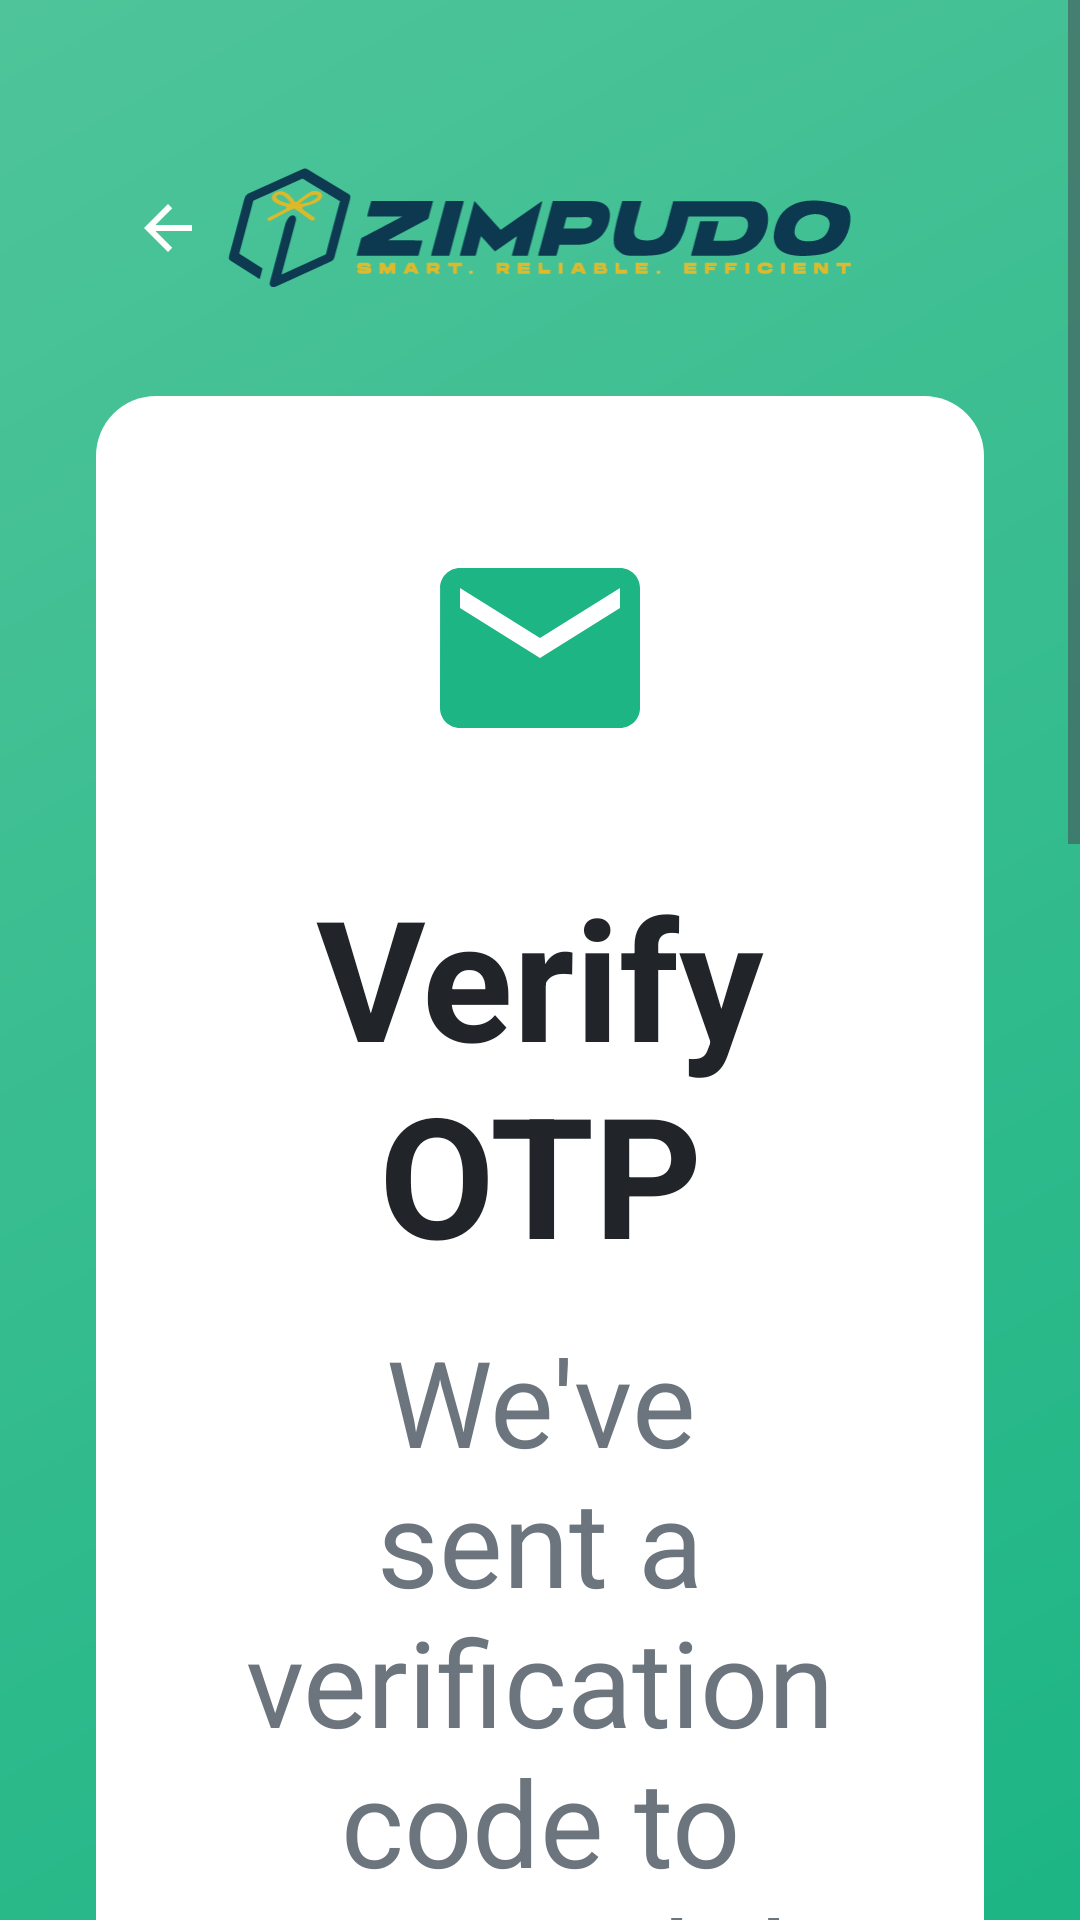

Named icons in this screenshot (1080w x 1920h) and their centers, (x=x, y=y):
Back: (x=168, y=228)
